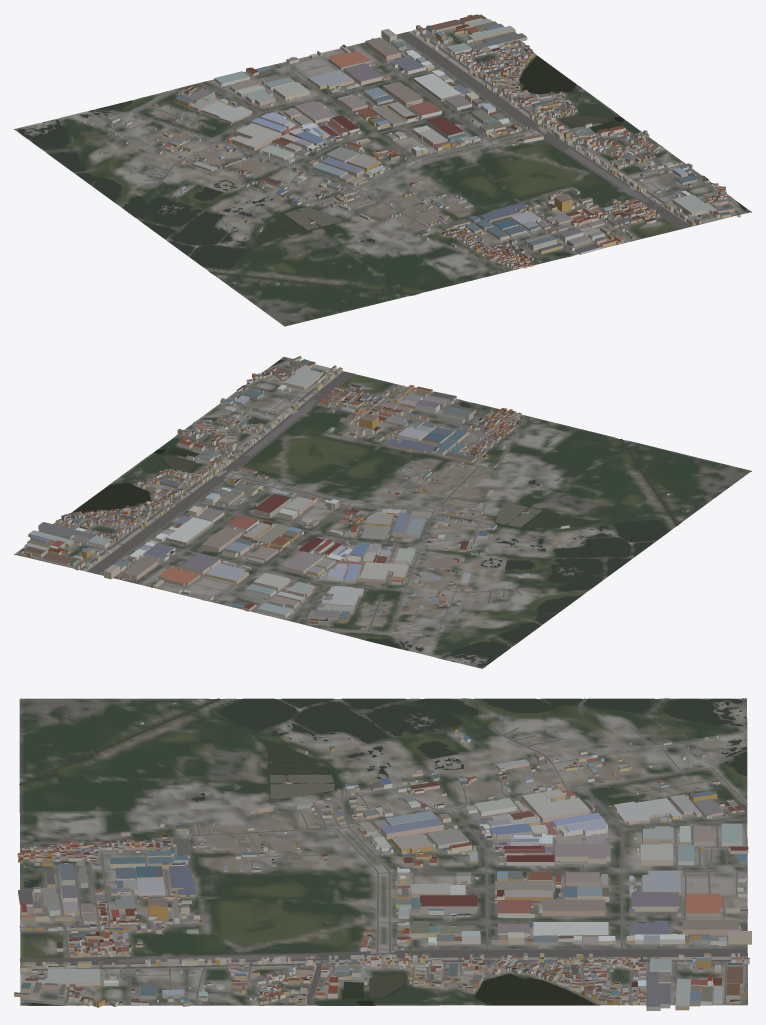
3 views of the same model, one above another, from view 1: azimuth 30°, elevation 25°; view 2: azimuth 150°, elevation 25°; view 3: azimuth 270°, elevation 25° (orthographic). The views are drawn at different scales.
Visible parts, largest first — view 1: ground, buildings, water, roads; view 2: ground, buildings, water, roads; view 3: ground, buildings, water, roads.
Part boxes in pixels (bbox=[...]): ground: bbox=[14, 14, 751, 326]; buildings: bbox=[83, 14, 740, 284]; water: bbox=[18, 56, 746, 295]; roads: bbox=[14, 20, 743, 270]; ground: bbox=[14, 357, 751, 668]; buildings: bbox=[19, 356, 688, 646]; water: bbox=[73, 360, 678, 666]; roads: bbox=[24, 358, 541, 668]; ground: bbox=[19, 698, 747, 1005]; buildings: bbox=[14, 701, 751, 1010]; water: bbox=[19, 698, 746, 1005]; roads: bbox=[19, 698, 747, 1005].
Bounding box in the file's own units: 1427 × 32.87 × 1422.
